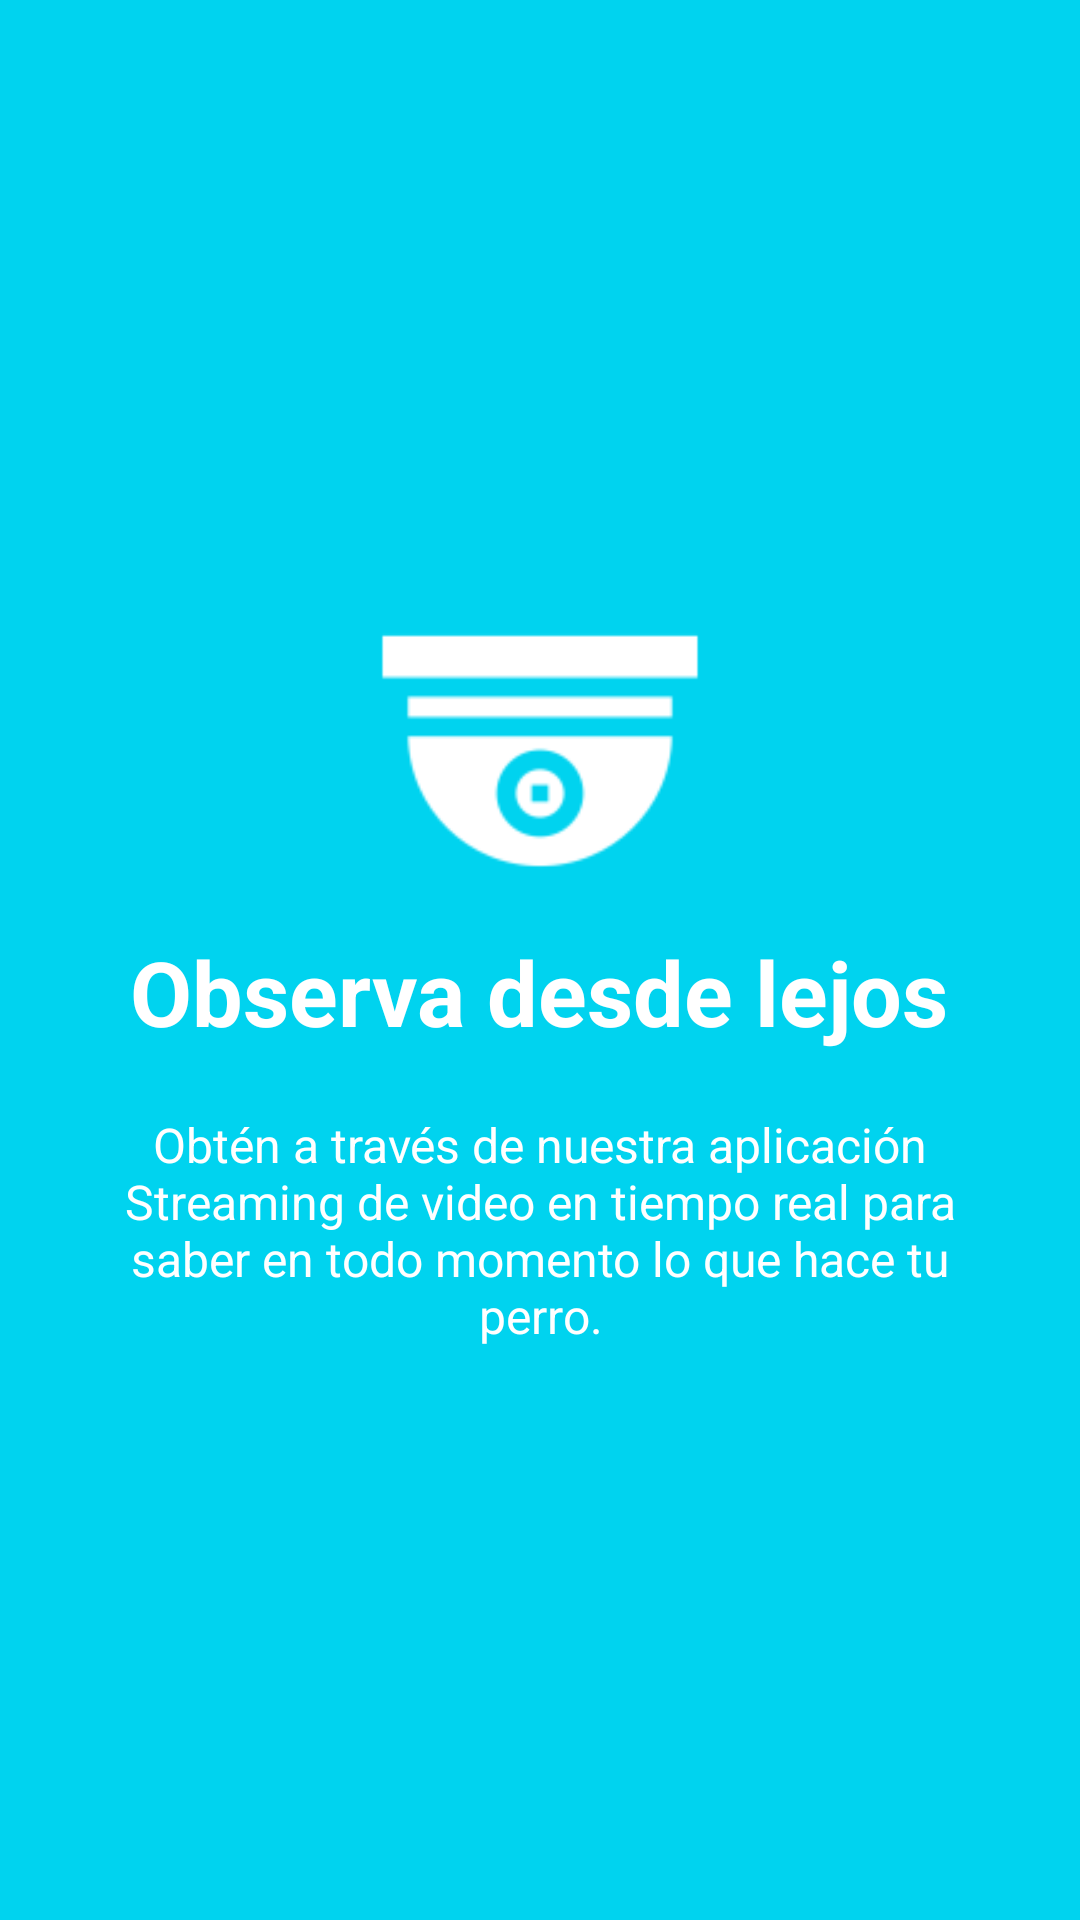

Icons on this 1080px×1920px Android screen, each with the point to tap as [x,y]:
securitycam: [540,751]
